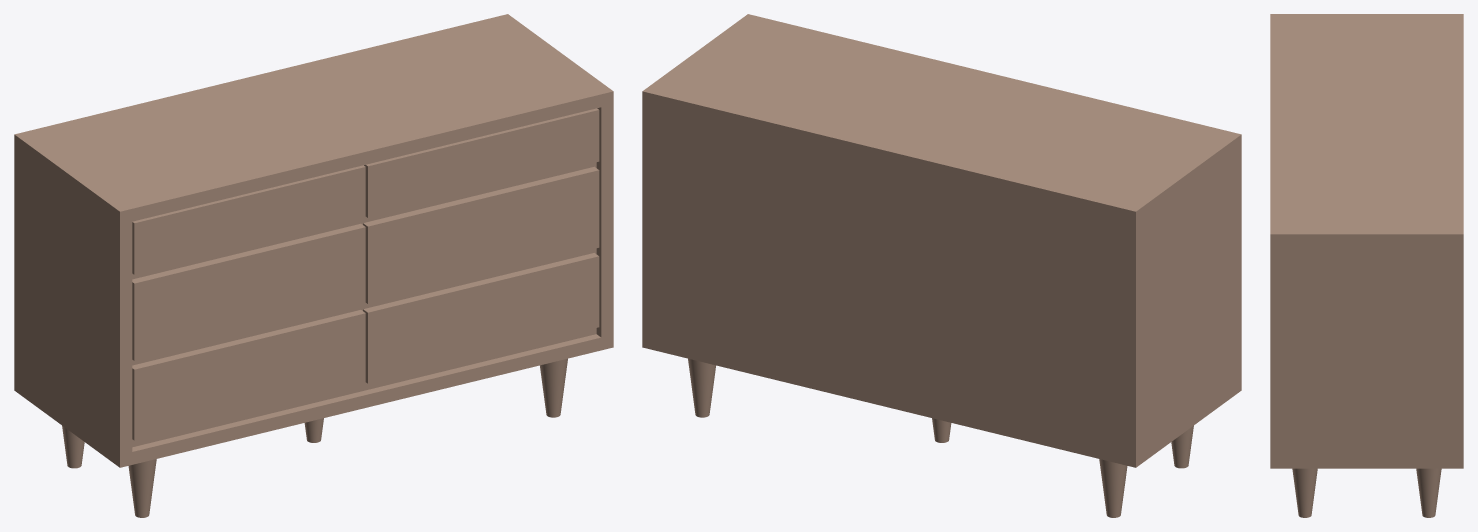
File: 007_チェスト.glb
3 views of the same model, side by side, from view 1: azimuth 30°, elevation 25°; view 2: azimuth 150°, elevation 25°; view 3: azimuth 270°, elevation 25° (orthographic). The views are drawn at different scales.
Parts seen in each view (by area): view 1: body, 引き出し4, 引き出し3, 引き出し6, 引き出し5, 引き出し2, 引き出し1; view 2: body; view 3: body.
Part boxes in pixels (x1=…): body: x1=14, y1=14, x2=613, y2=517; 引き出し4: x1=363, y1=166, x2=599, y2=303; 引き出し3: x1=132, y1=223, x2=365, y2=360; 引き出し6: x1=363, y1=253, x2=599, y2=383; 引き出し5: x1=132, y1=310, x2=365, y2=440; 引き出し2: x1=364, y1=108, x2=599, y2=217; 引き出し1: x1=132, y1=165, x2=365, y2=274; body: x1=642, y1=14, x2=1241, y2=517; body: x1=1270, y1=14, x2=1463, y2=517.
Bounding box in the file's own units: 1.2 × 0.76 × 0.445.
